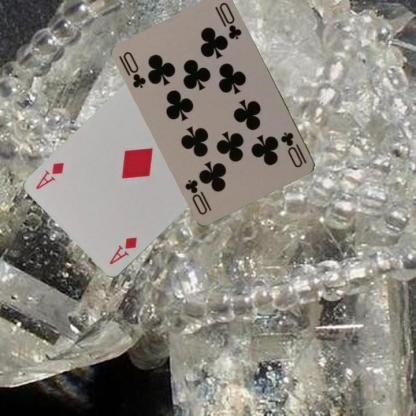10c: (116, 48, 148, 90), (278, 130, 308, 170)
Ad: (106, 235, 138, 266)
